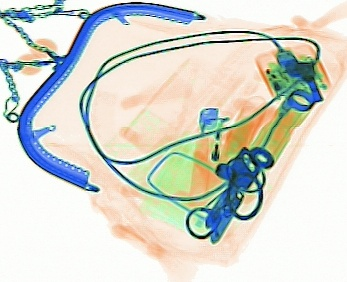lighter: (184, 106, 233, 209)
